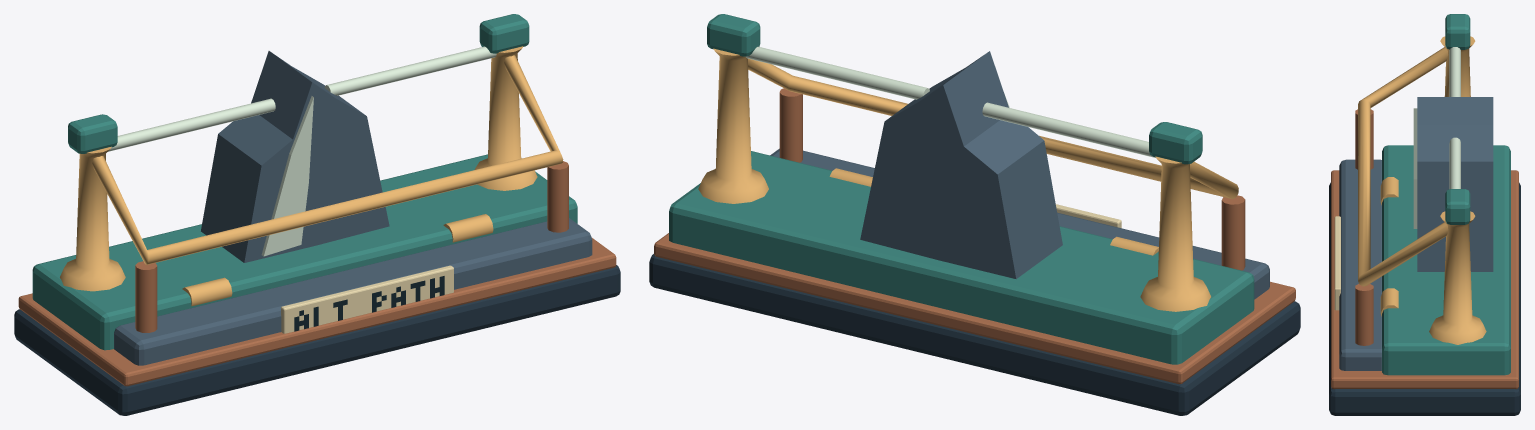
3 renders of one model, left to right at view 1: azimuth 30°, elevation 25°; view 2: azimuth 150°, elevation 25°; view 3: azimuth 270°, elevation 25°, orthographic. The views are drawn at different scales.
Visible parts, largest first — view 1: PR064 enamel and hardware; view 2: PR064 enamel and hardware; view 3: PR064 enamel and hardware.
Boxes of the visible parts, x1,y1,x2,y2 form: PR064 enamel and hardware: (14, 14, 620, 415); PR064 enamel and hardware: (649, 14, 1300, 415); PR064 enamel and hardware: (1329, 14, 1520, 415).
Bounding box in the file's own units: 2.2 × 1.01 × 0.836.
